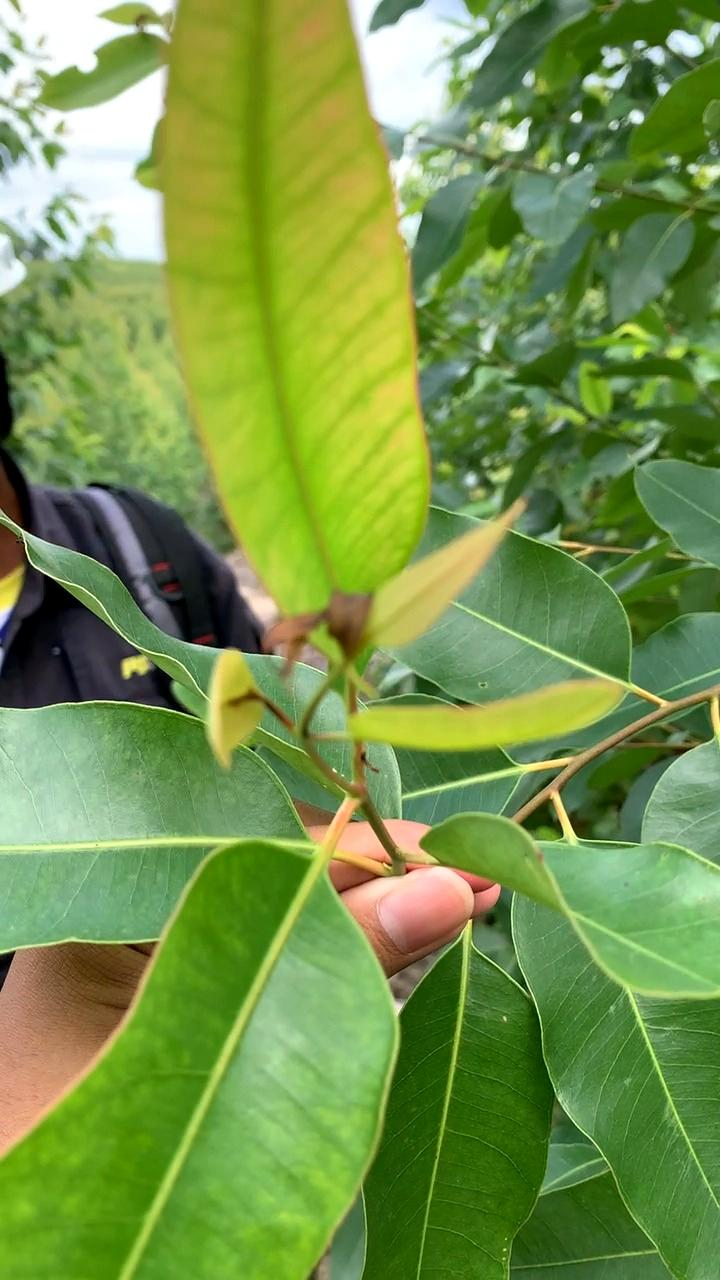Helopeltis-Withered Sprout: (241, 588, 390, 689)
